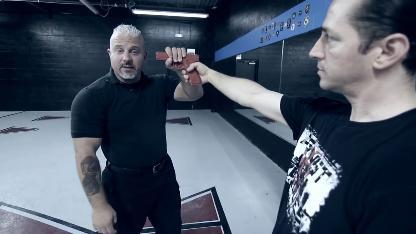pistol: (154, 49, 202, 84)
